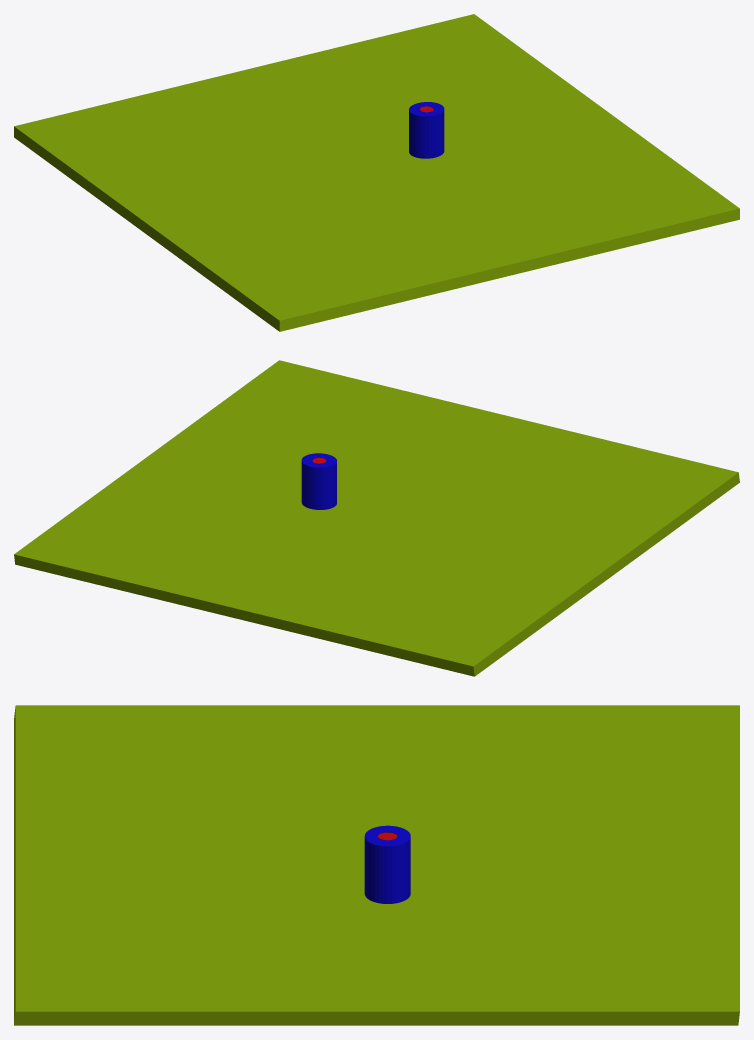
Rendered from UDP.obj.
3 views of the same model, one above another, from view 1: azimuth 30°, elevation 25°; view 2: azimuth 150°, elevation 25°; view 3: azimuth 270°, elevation 25° (orthographic). The views are drawn at different scales.
Parts seen in each view (by area): view 1: Plane, CylinderB_Cylinder.001; view 2: Plane, CylinderB_Cylinder.001; view 3: Plane, CylinderB_Cylinder.001.
Boxes of the visible parts, <box> form: Plane: <box>14,14,739,331</box>; CylinderB_Cylinder.001: <box>409,102,444,158</box>; Plane: <box>14,360,739,676</box>; CylinderB_Cylinder.001: <box>301,453,336,509</box>; Plane: <box>14,705,739,1025</box>; CylinderB_Cylinder.001: <box>364,825,410,903</box>.
Size of the model in its own units: 42.33 by 4.66 by 42.37.
